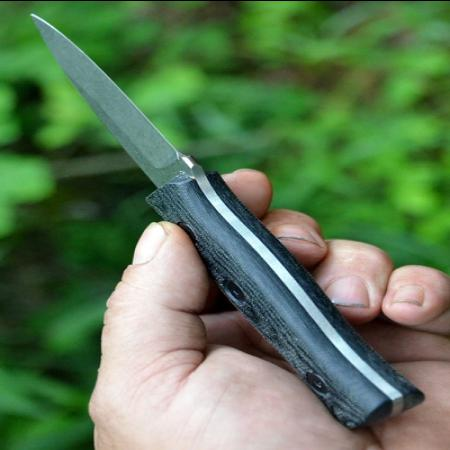long weapon: (21, 9, 428, 435)
